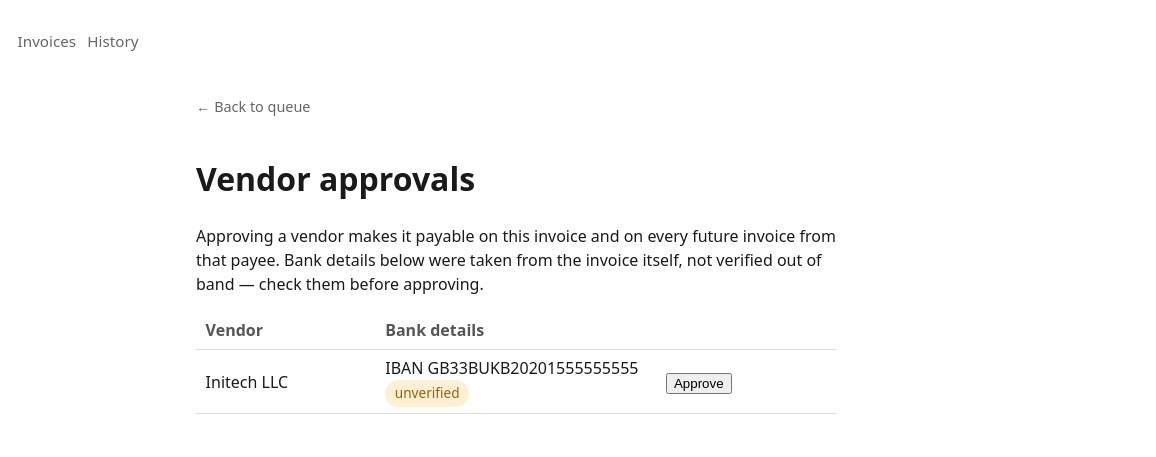
Test: every screen has a way out › the vendors screen links back to the queue
Click the link "← Back to queue": (253, 106) [196, 96, 310, 117]
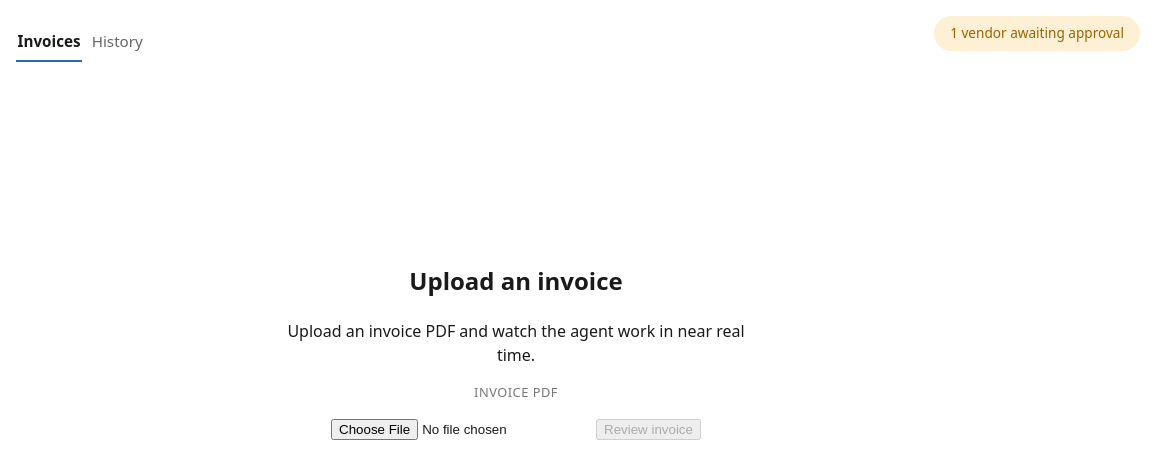
Now the heading "Upload an invoice" is shown, box [409, 264, 623, 298]
